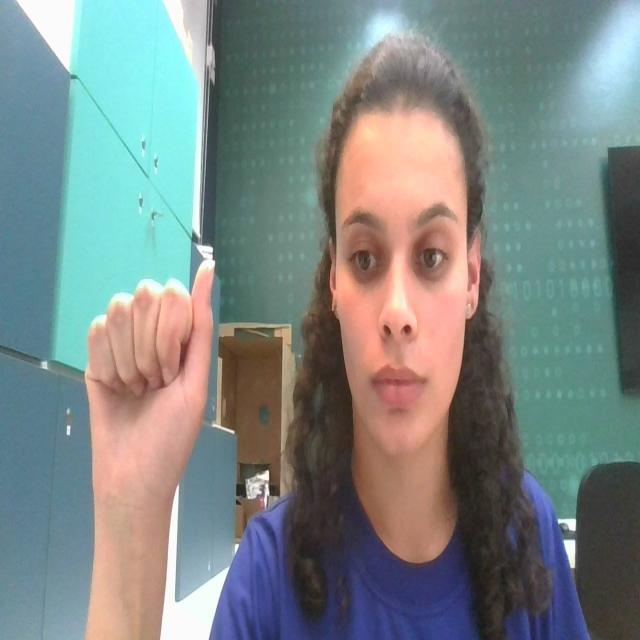A: (77, 251, 225, 527)
